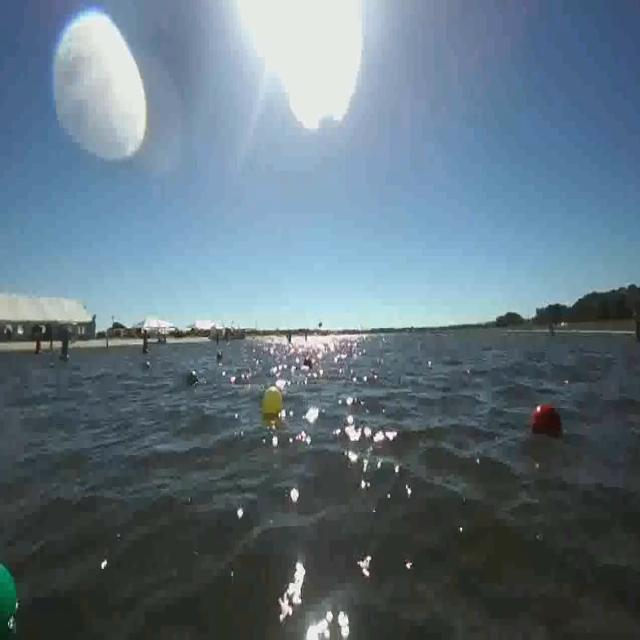green-buoy: (0, 560, 20, 636)
red-buoy: (529, 404, 564, 443)
yellow-buoy: (264, 386, 286, 419)
